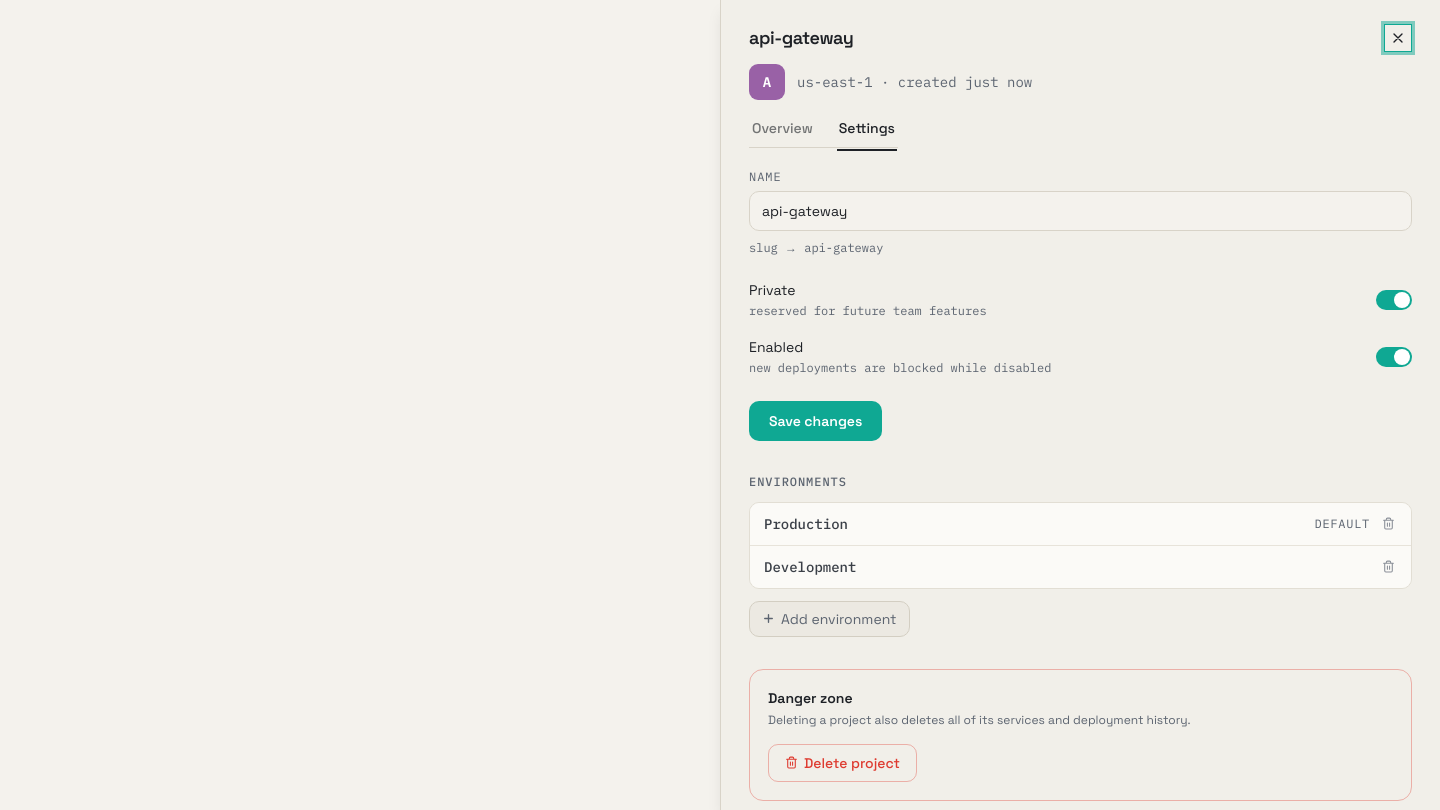
ProjectDetailPanel › shows an error inline when deleting the default environment is rejected
The width and height of the screenshot is (1440, 810).
Click the button named "Remove environment" next to "default". click: (1388, 524)
box: [1380, 515, 1397, 532]
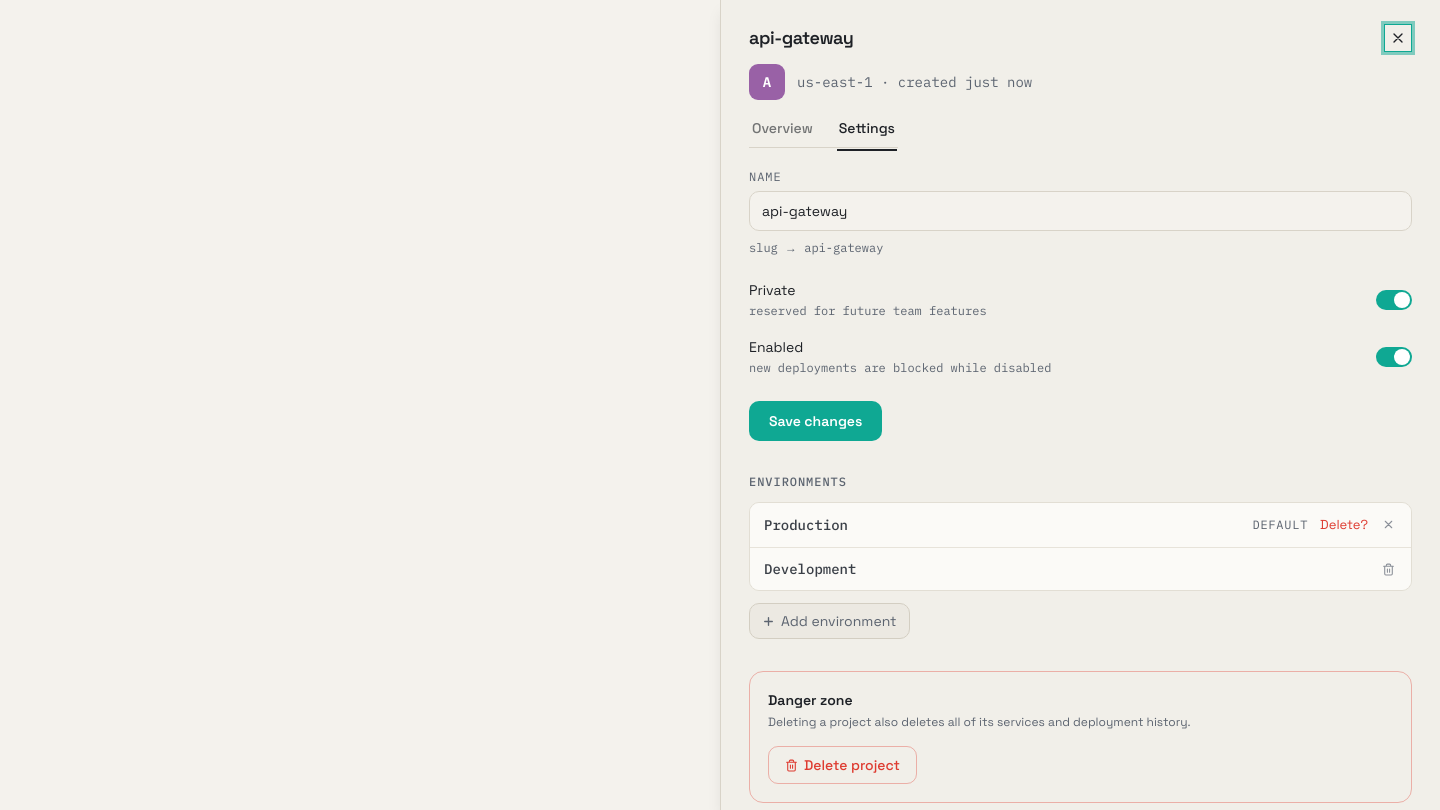
Click the button labelled "Delete?". click: (1344, 525)
box: [1318, 514, 1370, 536]
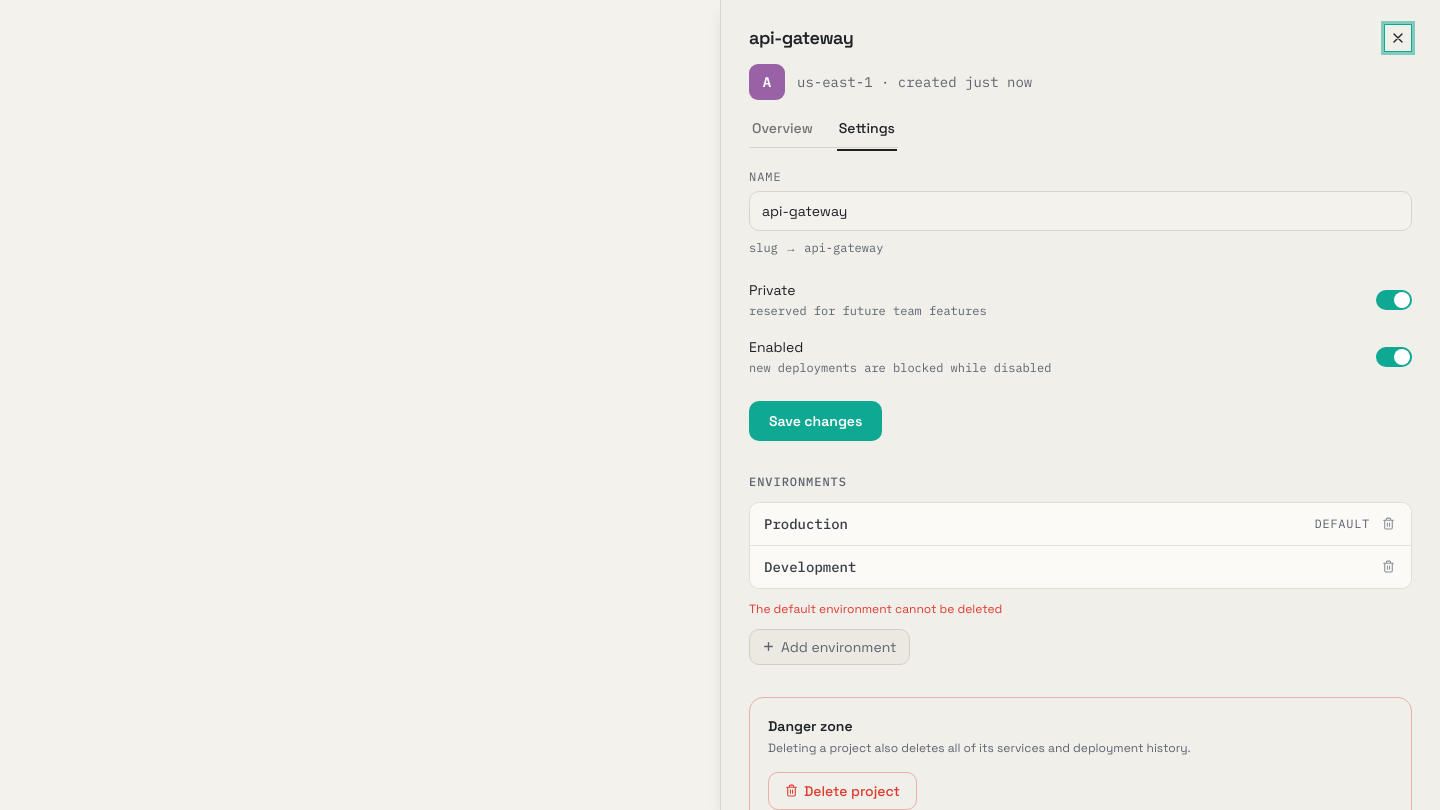
Result: the text "The default environment cannot be deleted" is shown at [749, 601, 1002, 617]
